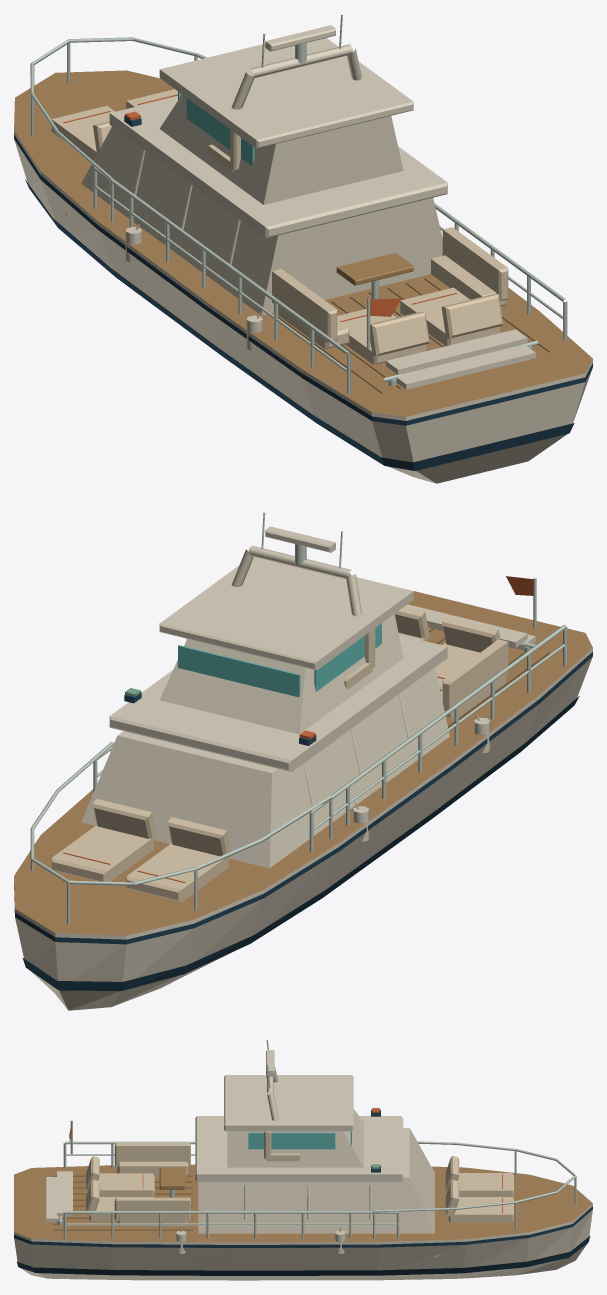
Rendered from yacht.glb.
3 renders of one model, top to bottom at view 1: azimuth 30°, elevation 25°; view 2: azimuth 150°, elevation 25°; view 3: azimuth 270°, elevation 25°, orthographic. The views are drawn at different scales.
Visible parts, largest first — view 1: static_painted, static_metal, static_glass; view 2: static_painted, static_metal, static_glass; view 3: static_painted, static_metal, static_glass.
Boxes of the visible parts, bbox=[...] form: static_painted: bbox=[14, 25, 592, 483]; static_metal: bbox=[30, 15, 567, 393]; static_glass: bbox=[66, 91, 254, 214]; static_painted: bbox=[14, 526, 592, 1010]; static_metal: bbox=[30, 512, 567, 924]; static_glass: bbox=[178, 623, 381, 899]; static_painted: bbox=[14, 1050, 592, 1280]; static_metal: bbox=[57, 1040, 576, 1256]; static_glass: bbox=[248, 1131, 438, 1256].
Bounding box in the file's own units: 3.5 × 4.37 × 11.
